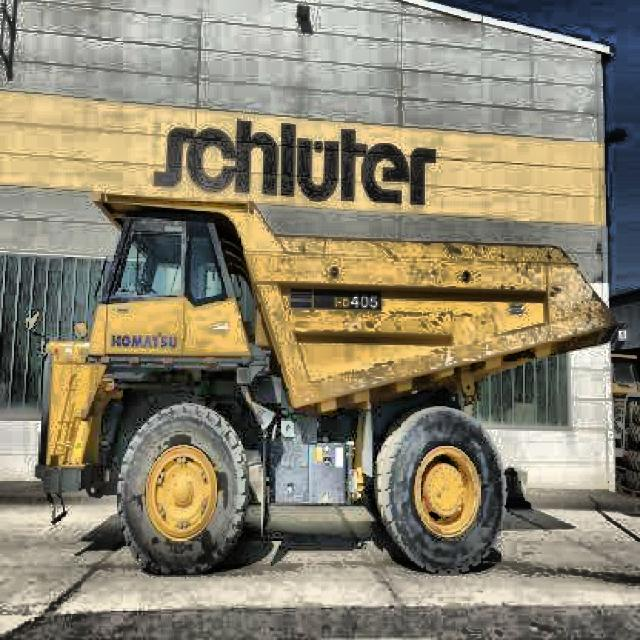dump_truck: (35, 178, 624, 574)
